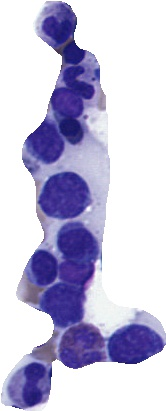objectness: (55, 54, 105, 104), (52, 325, 102, 375), (47, 250, 97, 300), (49, 216, 99, 266), (37, 73, 87, 123), (49, 109, 99, 159), (108, 320, 158, 370), (45, 29, 95, 79), (38, 278, 88, 328), (39, 169, 89, 219), (20, 117, 70, 167), (17, 242, 67, 292), (2, 363, 52, 411), (31, 0, 81, 48)
